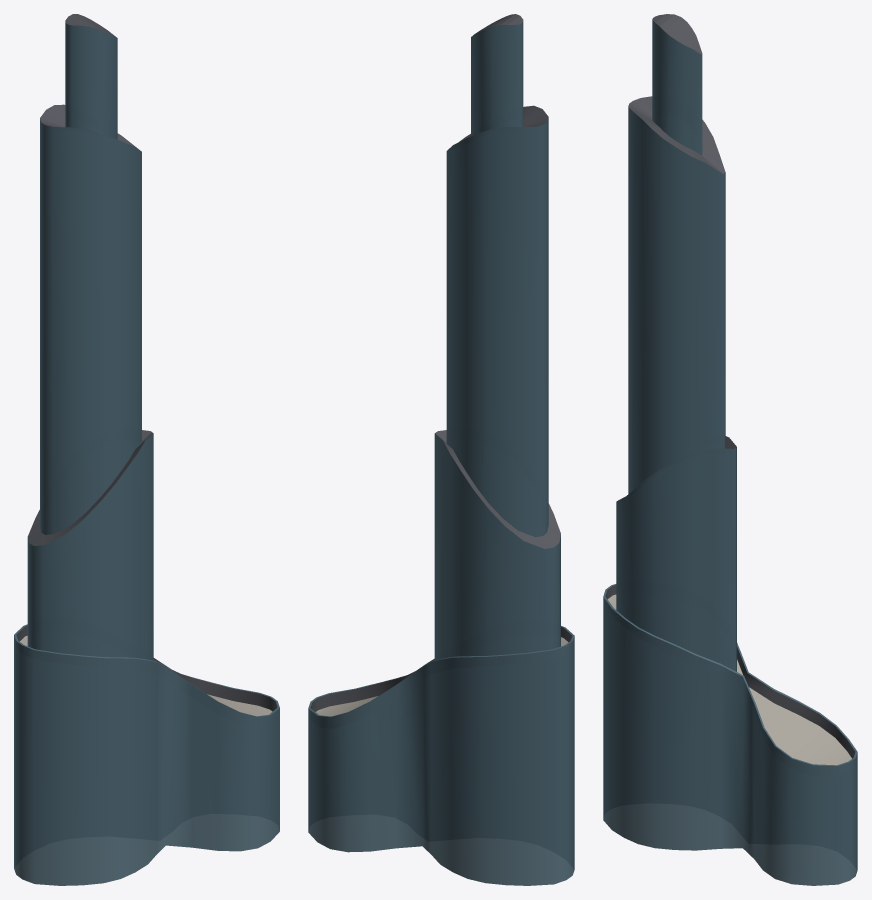
The model's file is MOD_TallBuilding_B.fbx.
The picture shows the model from 3 angles, left to right: view 1: azimuth 30°, elevation 25°; view 2: azimuth 150°, elevation 25°; view 3: azimuth 330°, elevation 25°; orthographic projection. The views are drawn at different scales.
Parts seen in each view (by area): view 1: MOD_TallBuilding_C; view 2: MOD_TallBuilding_C; view 3: MOD_TallBuilding_C.
Boxes of the visible parts, x1,y1,x2,y2 form: MOD_TallBuilding_C: (14,14,279,885); MOD_TallBuilding_C: (308,14,574,885); MOD_TallBuilding_C: (603,14,857,885).
Bounding box in the file's own units: 9818 × 31236 × 3533.
